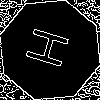H: (25, 25, 79, 73)
